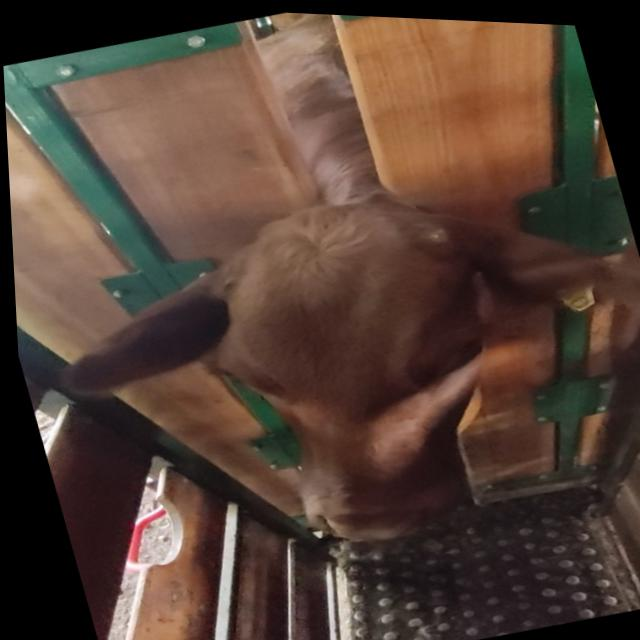cowFace: (170, 171, 536, 567)
